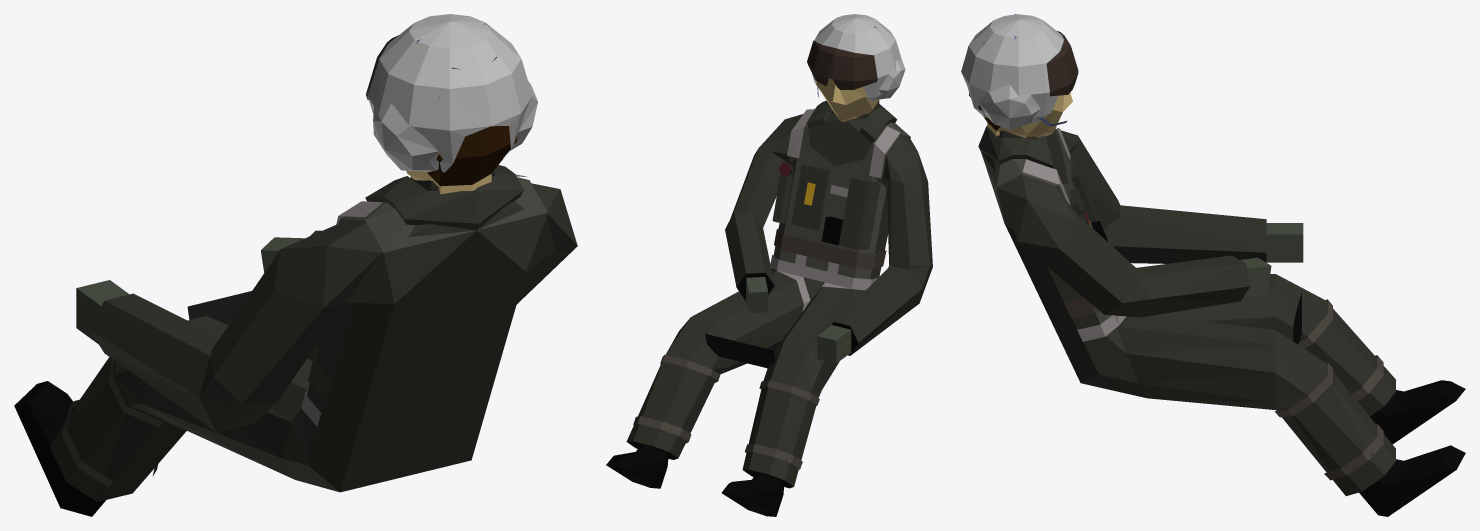
The model's file is Pilot2.obj.
3 renders of one model, left to right at view 1: azimuth 30°, elevation 25°; view 2: azimuth 150°, elevation 25°; view 3: azimuth 270°, elevation 25°, orthographic. The views are drawn at different scales.
Visible parts, largest first — view 1: ShapeIndexedFaceSet.043_ShapeIndexedFaceSet.044, ShapeIndexedFaceSet.045_ShapeIndexedFaceSet.046, ShapeIndexedFaceSet.046_ShapeIndexedFaceSet.047, ShapeIndexedFaceSet.042_ShapeIndexedFaceSet.043, ShapeIndexedFaceSet.017_ShapeIndexedFaceSet.018, ShapeIndexedFaceSet.044_ShapeIndexedFaceSet.045, ShapeIndexedFaceSet.023_ShapeIndexedFaceSet.024, ShapeIndexedFaceSet.049_ShapeIndexedFaceSet.050, ShapeIndexedFaceSet.051_ShapeIndexedFaceSet.052; view 2: ShapeIndexedFaceSet.043_ShapeIndexedFaceSet.044, ShapeIndexedFaceSet.046_ShapeIndexedFaceSet.047, ShapeIndexedFaceSet.042_ShapeIndexedFaceSet.043, ShapeIndexedFaceSet.045_ShapeIndexedFaceSet.046, ShapeIndexedFaceSet.047_ShapeIndexedFaceSet.048, ShapeIndexedFaceSet.051_ShapeIndexedFaceSet.052, ShapeIndexedFaceSet.044_ShapeIndexedFaceSet.045, ShapeIndexedFaceSet.054_ShapeIndexedFaceSet.055, ShapeIndexedFaceSet.050_ShapeIndexedFaceSet.051, ShapeIndexedFaceSet.018_ShapeIndexedFaceSet.019, ShapeIndexedFaceSet.023_ShapeIndexedFaceSet.024, ShapeIndexedFaceSet.048_ShapeIndexedFaceSet.049 (+1 smaller); view 3: ShapeIndexedFaceSet.043_ShapeIndexedFaceSet.044, ShapeIndexedFaceSet.045_ShapeIndexedFaceSet.046, ShapeIndexedFaceSet.042_ShapeIndexedFaceSet.043, ShapeIndexedFaceSet.044_ShapeIndexedFaceSet.045, ShapeIndexedFaceSet.048_ShapeIndexedFaceSet.049, ShapeIndexedFaceSet.046_ShapeIndexedFaceSet.047, ShapeIndexedFaceSet.047_ShapeIndexedFaceSet.048, ShapeIndexedFaceSet.018_ShapeIndexedFaceSet.019, ShapeIndexedFaceSet.050_ShapeIndexedFaceSet.051.
Part boxes in pixels (left/top/right/bottom): ShapeIndexedFaceSet.043_ShapeIndexedFaceSet.044: left=50, top=165, right=577, bottom=501; ShapeIndexedFaceSet.045_ShapeIndexedFaceSet.046: left=367, top=14, right=537, bottom=172; ShapeIndexedFaceSet.046_ShapeIndexedFaceSet.047: left=338, top=177, right=547, bottom=303; ShapeIndexedFaceSet.042_ShapeIndexedFaceSet.043: left=14, top=381, right=105, bottom=516; ShapeIndexedFaceSet.017_ShapeIndexedFaceSet.018: left=427, top=57, right=517, bottom=186; ShapeIndexedFaceSet.044_ShapeIndexedFaceSet.045: left=76, top=237, right=304, bottom=344; ShapeIndexedFaceSet.023_ShapeIndexedFaceSet.024: left=187, top=291, right=251, bottom=324; ShapeIndexedFaceSet.049_ShapeIndexedFaceSet.050: left=62, top=359, right=162, bottom=487; ShapeIndexedFaceSet.051_ShapeIndexedFaceSet.052: left=301, top=201, right=382, bottom=426; ShapeIndexedFaceSet.043_ShapeIndexedFaceSet.044: left=626, top=100, right=932, bottom=486; ShapeIndexedFaceSet.046_ShapeIndexedFaceSet.047: left=773, top=122, right=910, bottom=299; ShapeIndexedFaceSet.042_ShapeIndexedFaceSet.043: left=606, top=216, right=858, bottom=516; ShapeIndexedFaceSet.045_ShapeIndexedFaceSet.046: left=812, top=14, right=905, bottom=101; ShapeIndexedFaceSet.047_ShapeIndexedFaceSet.048: left=807, top=40, right=877, bottom=89; ShapeIndexedFaceSet.051_ShapeIndexedFaceSet.052: left=772, top=126, right=900, bottom=311; ShapeIndexedFaceSet.044_ShapeIndexedFaceSet.045: left=746, top=277, right=851, bottom=363; ShapeIndexedFaceSet.054_ShapeIndexedFaceSet.055: left=774, top=228, right=886, bottom=269; ShapeIndexedFaceSet.050_ShapeIndexedFaceSet.051: left=770, top=109, right=871, bottom=300; ShapeIndexedFaceSet.018_ShapeIndexedFaceSet.019: left=816, top=78, right=878, bottom=121; ShapeIndexedFaceSet.023_ShapeIndexedFaceSet.024: left=705, top=333, right=775, bottom=368; ShapeIndexedFaceSet.048_ShapeIndexedFaceSet.049: left=633, top=354, right=802, bottom=468; ShapeIndexedFaceSet.043_ShapeIndexedFaceSet.044: left=978, top=126, right=1395, bottom=495; ShapeIndexedFaceSet.045_ShapeIndexedFaceSet.046: left=961, top=14, right=1064, bottom=129; ShapeIndexedFaceSet.042_ShapeIndexedFaceSet.043: left=1091, top=220, right=1465, bottom=516; ShapeIndexedFaceSet.044_ShapeIndexedFaceSet.045: left=1240, top=223, right=1303, bottom=297; ShapeIndexedFaceSet.048_ShapeIndexedFaceSet.049: left=1274, top=314, right=1383, bottom=480; ShapeIndexedFaceSet.046_ShapeIndexedFaceSet.047: left=981, top=129, right=1111, bottom=323; ShapeIndexedFaceSet.047_ShapeIndexedFaceSet.048: left=1046, top=31, right=1078, bottom=96; ShapeIndexedFaceSet.018_ShapeIndexedFaceSet.019: left=987, top=93, right=1072, bottom=137; ShapeIndexedFaceSet.050_ShapeIndexedFaceSet.051: left=1022, top=159, right=1118, bottom=336.
Size of the model in its own units: 6.06 by 11.49 by 11.4.
